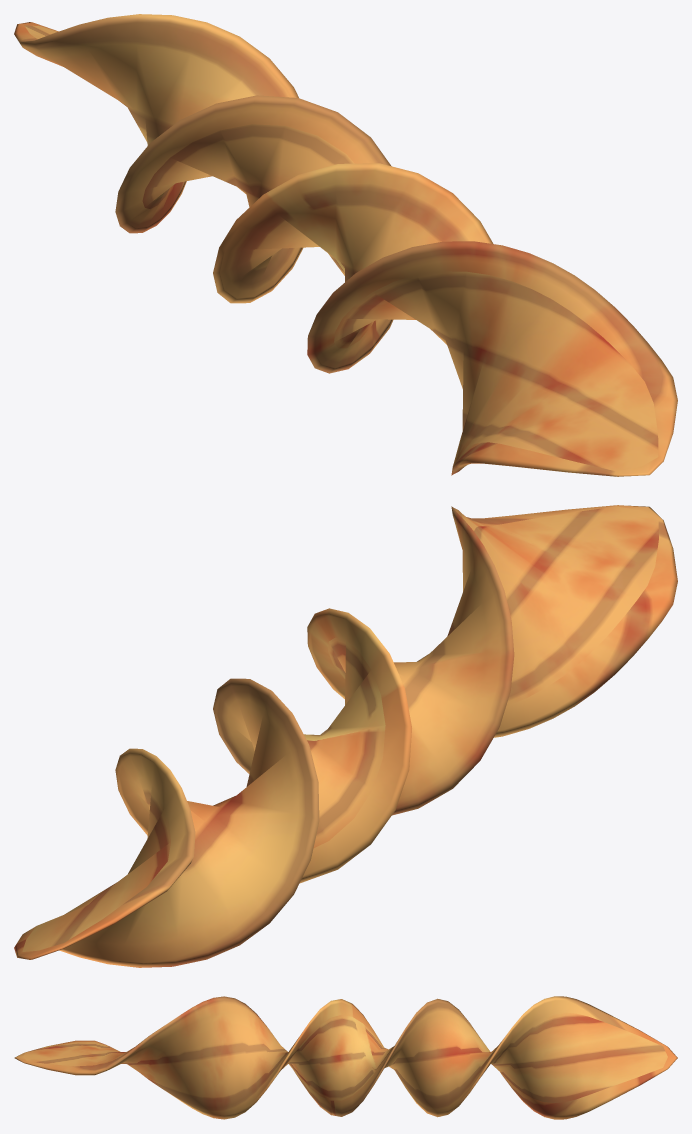
File: Bullet.fbx
3 renders of one model, top to bottom at view 1: azimuth 30°, elevation 25°; view 2: azimuth 150°, elevation 25°; view 3: azimuth 270°, elevation 25°, orthographic. The views are drawn at different scales.
Visible parts, largest first — view 1: PenneBullet; view 2: PenneBullet; view 3: PenneBullet.
Boxes of the visible parts, left/top/right/bottom form: PenneBullet: left=14, top=14, right=677, bottom=476; PenneBullet: left=14, top=505, right=677, bottom=967; PenneBullet: left=14, top=996, right=677, bottom=1119.
Size of the model in its own units: 4.5 by 4.56 by 24.36.
